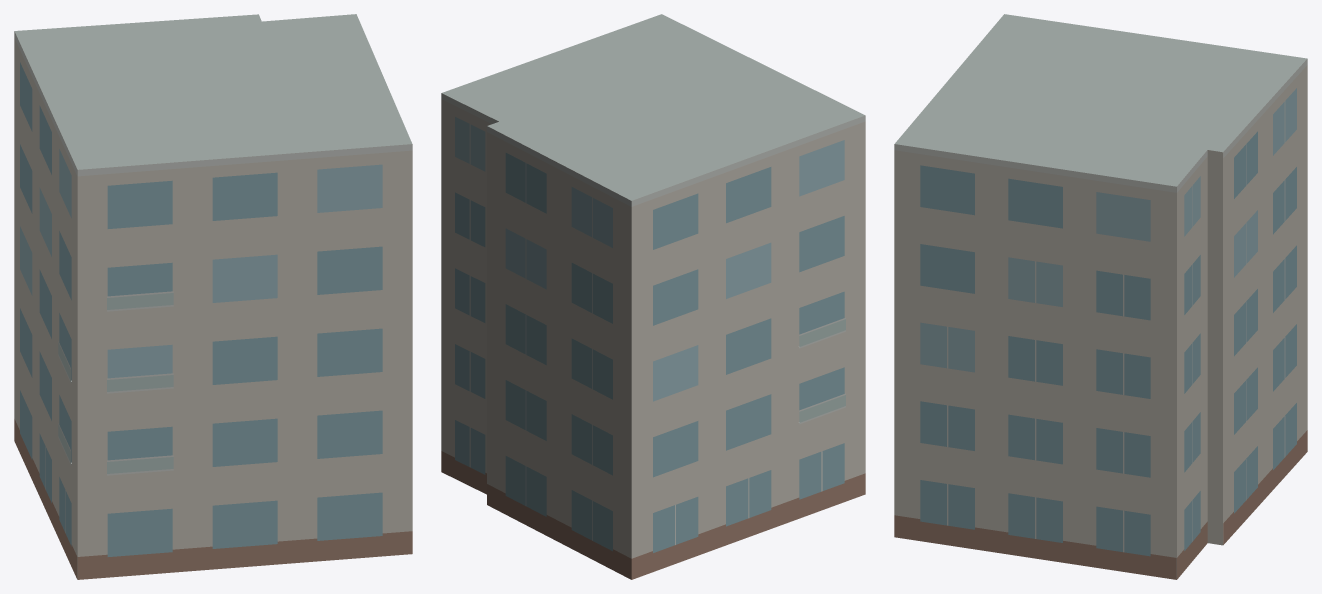
File: survey-upis-32776729.glb
The picture shows the model from 3 angles, left to right: view 1: azimuth 30°, elevation 25°; view 2: azimuth 150°, elevation 25°; view 3: azimuth 270°, elevation 25°; orthographic projection. The views are drawn at different scales.
Parts seen in each view (by area): view 1: survey-upis-32776729.tmp; view 2: survey-upis-32776729.tmp; view 3: survey-upis-32776729.tmp.
Boxes of the visible parts, box(x1,y1,x2,y2) form: survey-upis-32776729.tmp: box(14, 14, 412, 579); survey-upis-32776729.tmp: box(441, 14, 865, 579); survey-upis-32776729.tmp: box(894, 14, 1307, 579).
Bounding box in the file's own units: 14.51 × 15.4 × 14.67.
